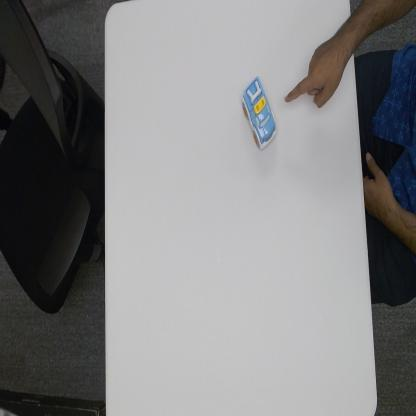Car: (241, 73, 279, 154)
Hand: (282, 31, 345, 110)
